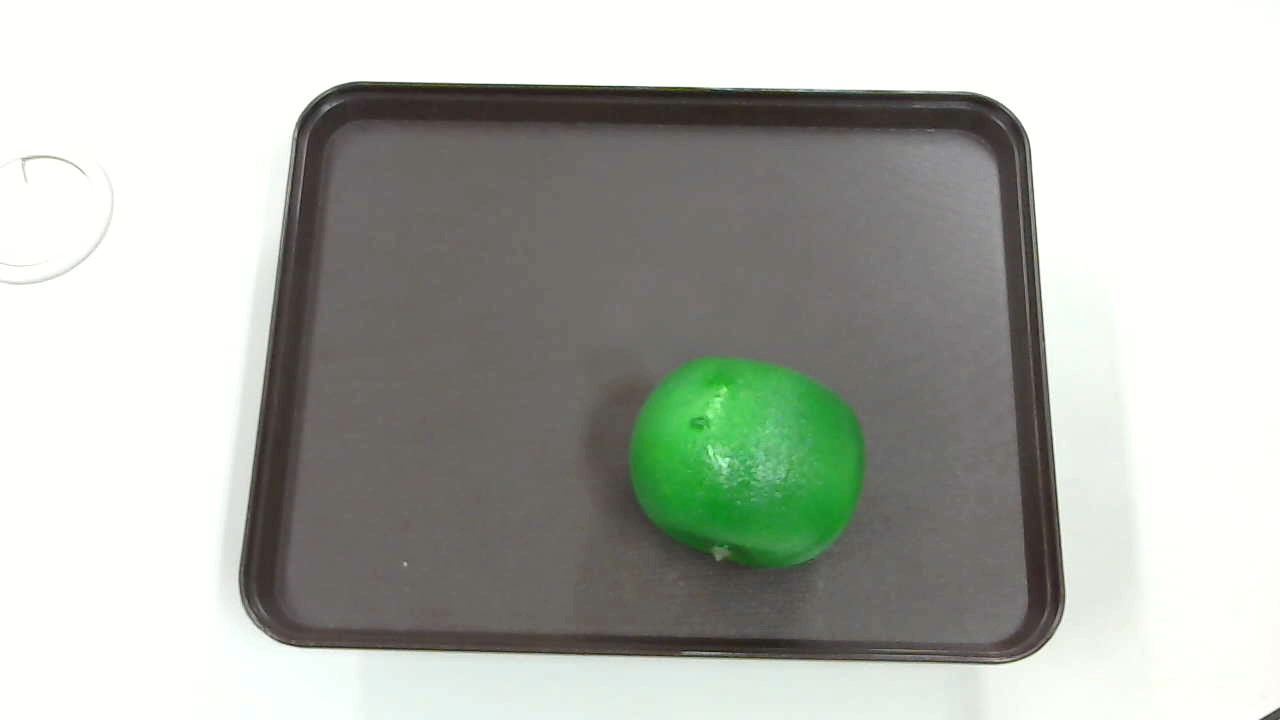green orange: (625, 351, 861, 574)
